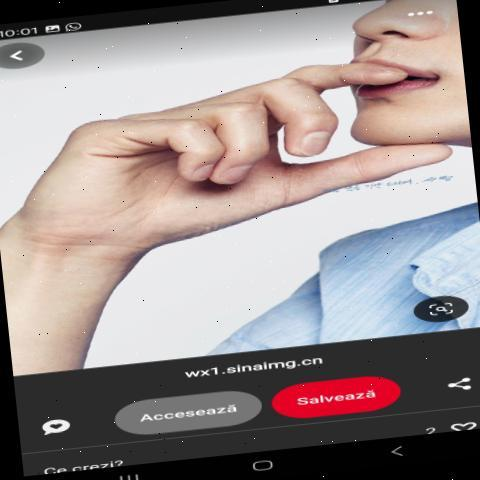Hands: (29, 60, 458, 256)
